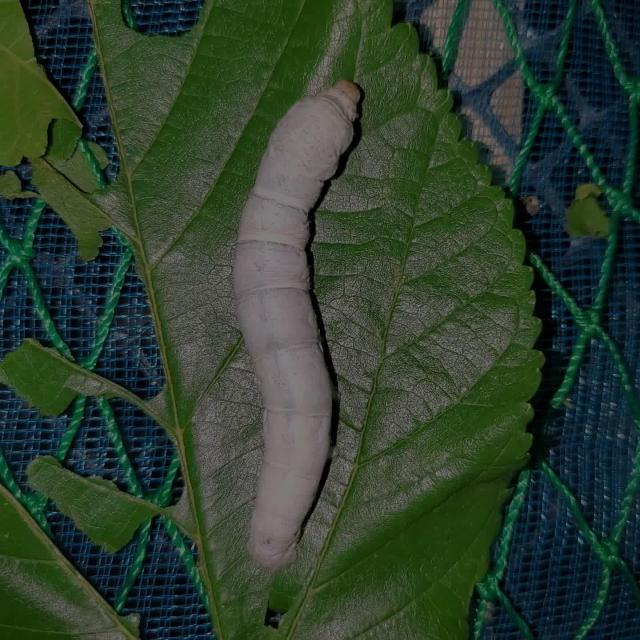Healthy: (205, 55, 382, 582)
